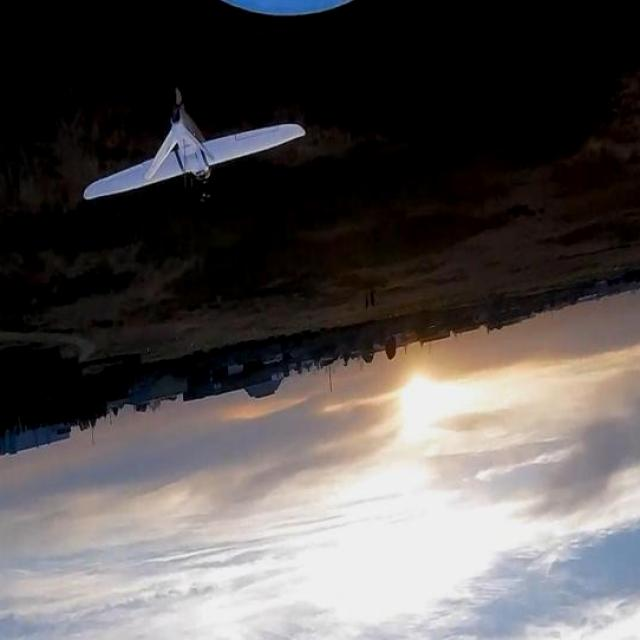plane: (82, 86, 308, 204)
